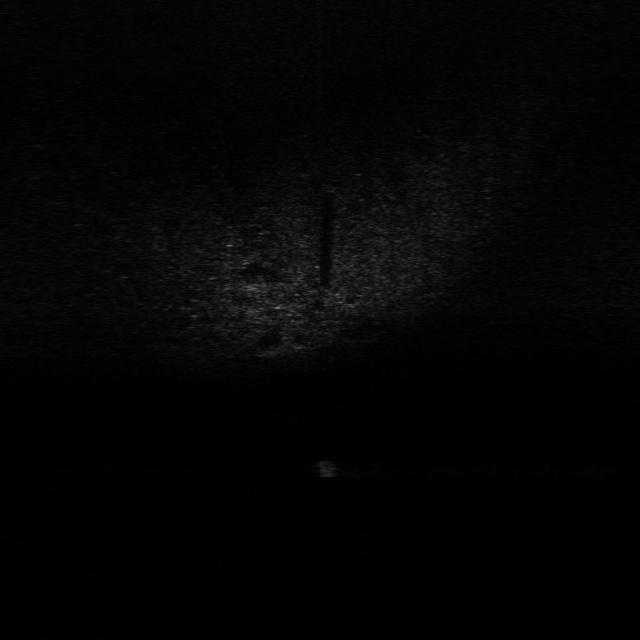cylinder: (313, 458, 342, 478)
